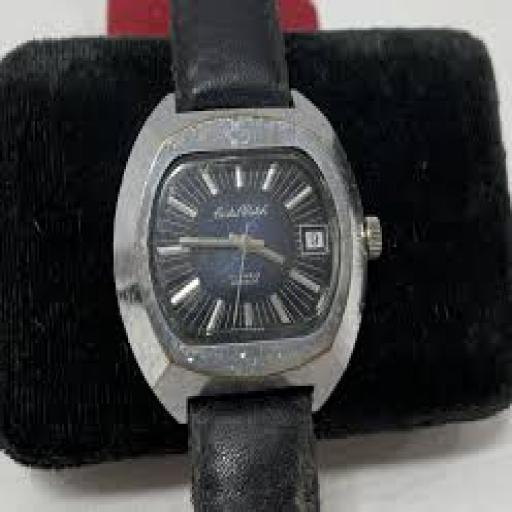KolSaati: (106, 8, 377, 508)
